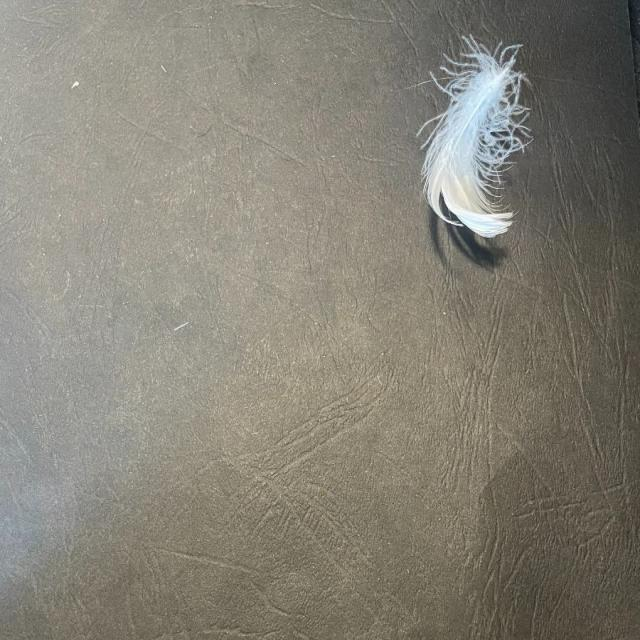feather: (417, 32, 533, 239)
